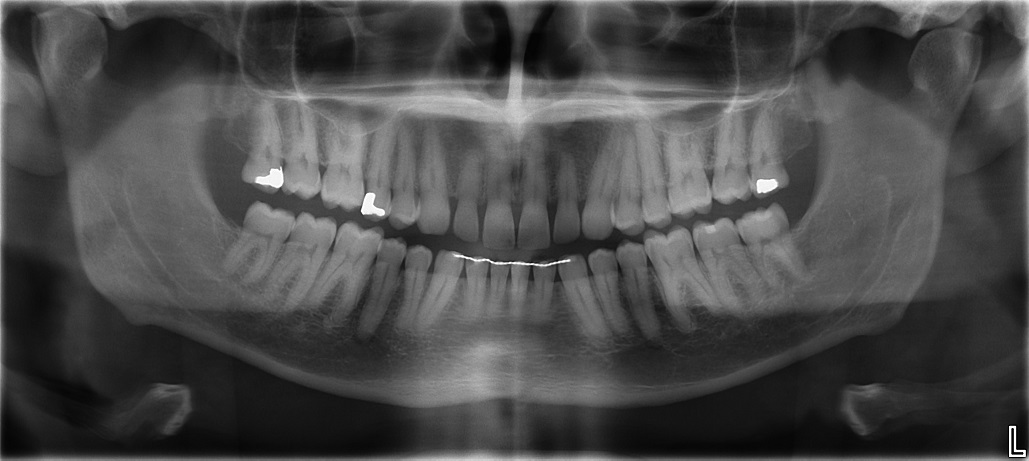canine: (557, 243, 612, 355), (414, 230, 464, 335), (580, 125, 620, 246), (415, 119, 453, 238)
incisor: (515, 141, 553, 255), (482, 143, 517, 254), (450, 143, 484, 247), (551, 143, 583, 250), (529, 251, 558, 335), (463, 247, 490, 331), (486, 250, 512, 331), (508, 251, 533, 331)
molar: (260, 193, 342, 330), (303, 204, 387, 337), (219, 181, 299, 302), (641, 225, 724, 335), (687, 213, 772, 320), (318, 94, 373, 220), (235, 80, 287, 196), (660, 116, 715, 221), (743, 99, 795, 199), (708, 99, 754, 208), (278, 93, 324, 201)
premolar: (350, 222, 410, 362), (615, 237, 663, 346), (395, 228, 435, 346), (633, 117, 674, 232), (585, 241, 634, 337), (609, 118, 646, 240), (386, 113, 423, 234), (360, 104, 393, 227)
ww: (732, 199, 808, 308)
